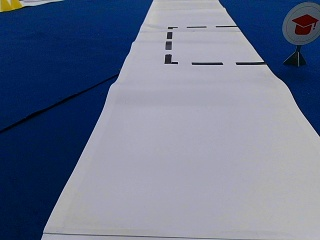school: (282, 2, 318, 45)
